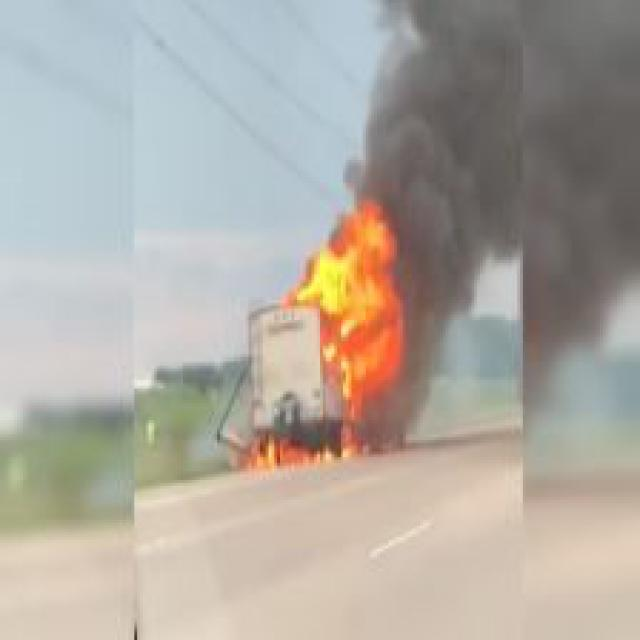fire: (246, 174, 431, 472)
